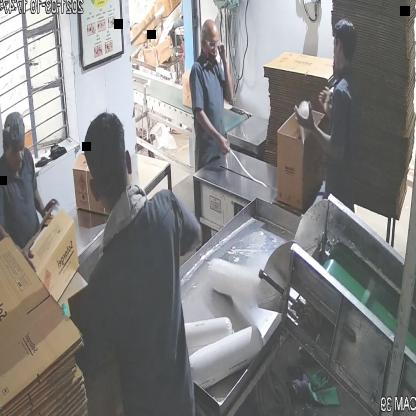no_glove: (290, 102, 348, 166), (189, 108, 237, 162), (214, 40, 238, 116)
